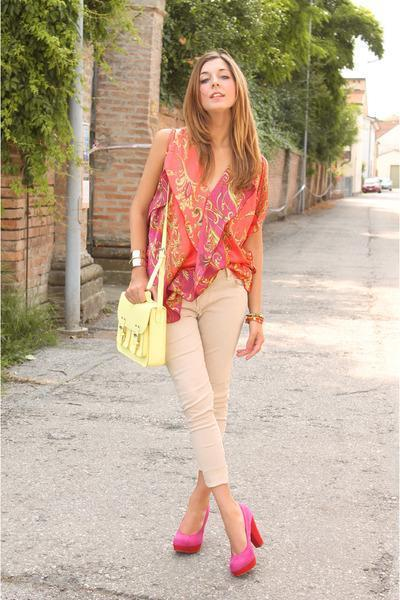bag: (116, 284, 168, 366)
pants: (158, 268, 242, 486)
shirt: (130, 121, 280, 323)
shoe: (173, 518, 262, 579)
